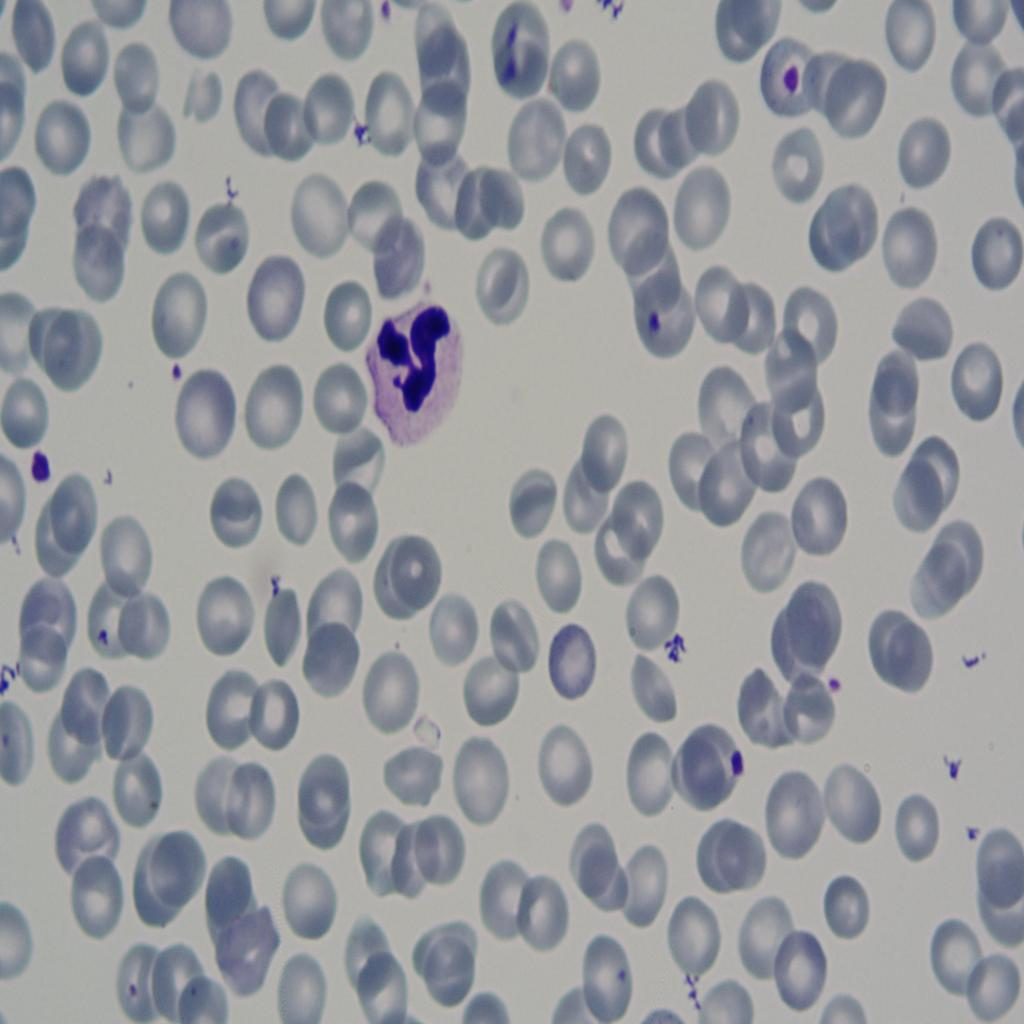Neutrofil: (361, 286, 473, 461)
Platelet: (714, 728, 743, 782), (19, 448, 52, 492), (818, 656, 844, 708), (345, 110, 372, 158), (963, 815, 990, 862), (166, 349, 190, 396), (775, 61, 803, 99), (940, 747, 966, 785), (644, 305, 668, 344)
